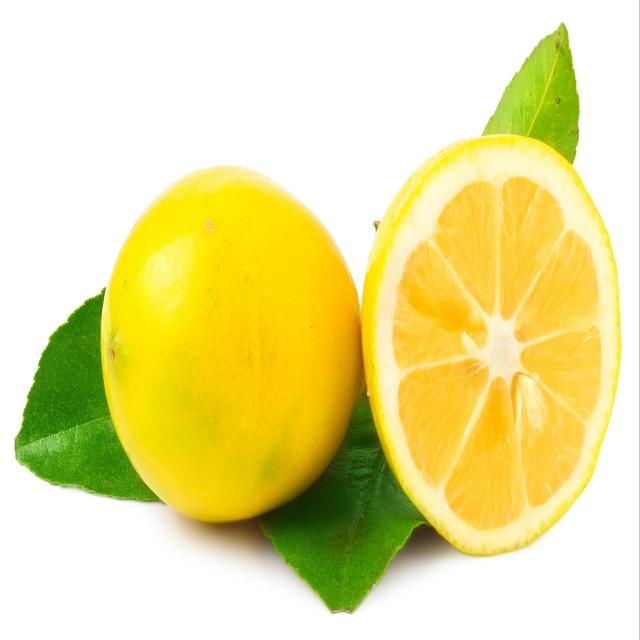lemon: (359, 127, 629, 562), (94, 155, 377, 526)
